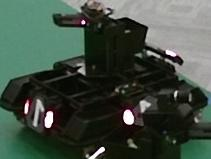front_1: (25, 100, 54, 129), (27, 96, 45, 134)
